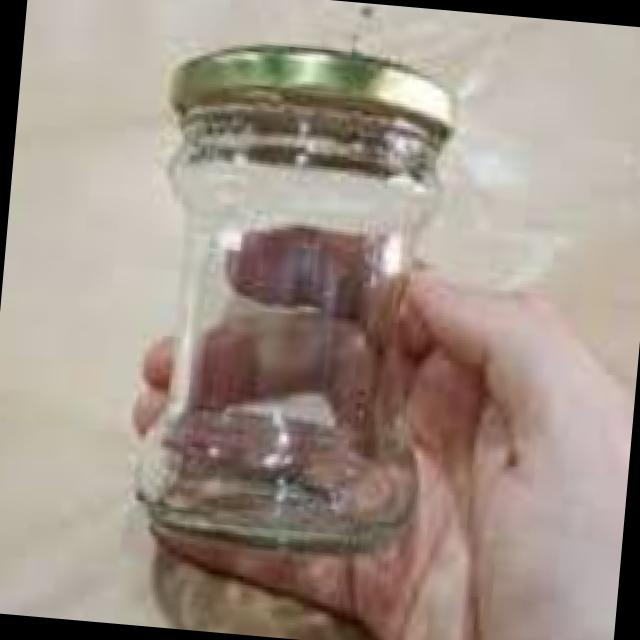ToplesKaca: (118, 15, 480, 581)
